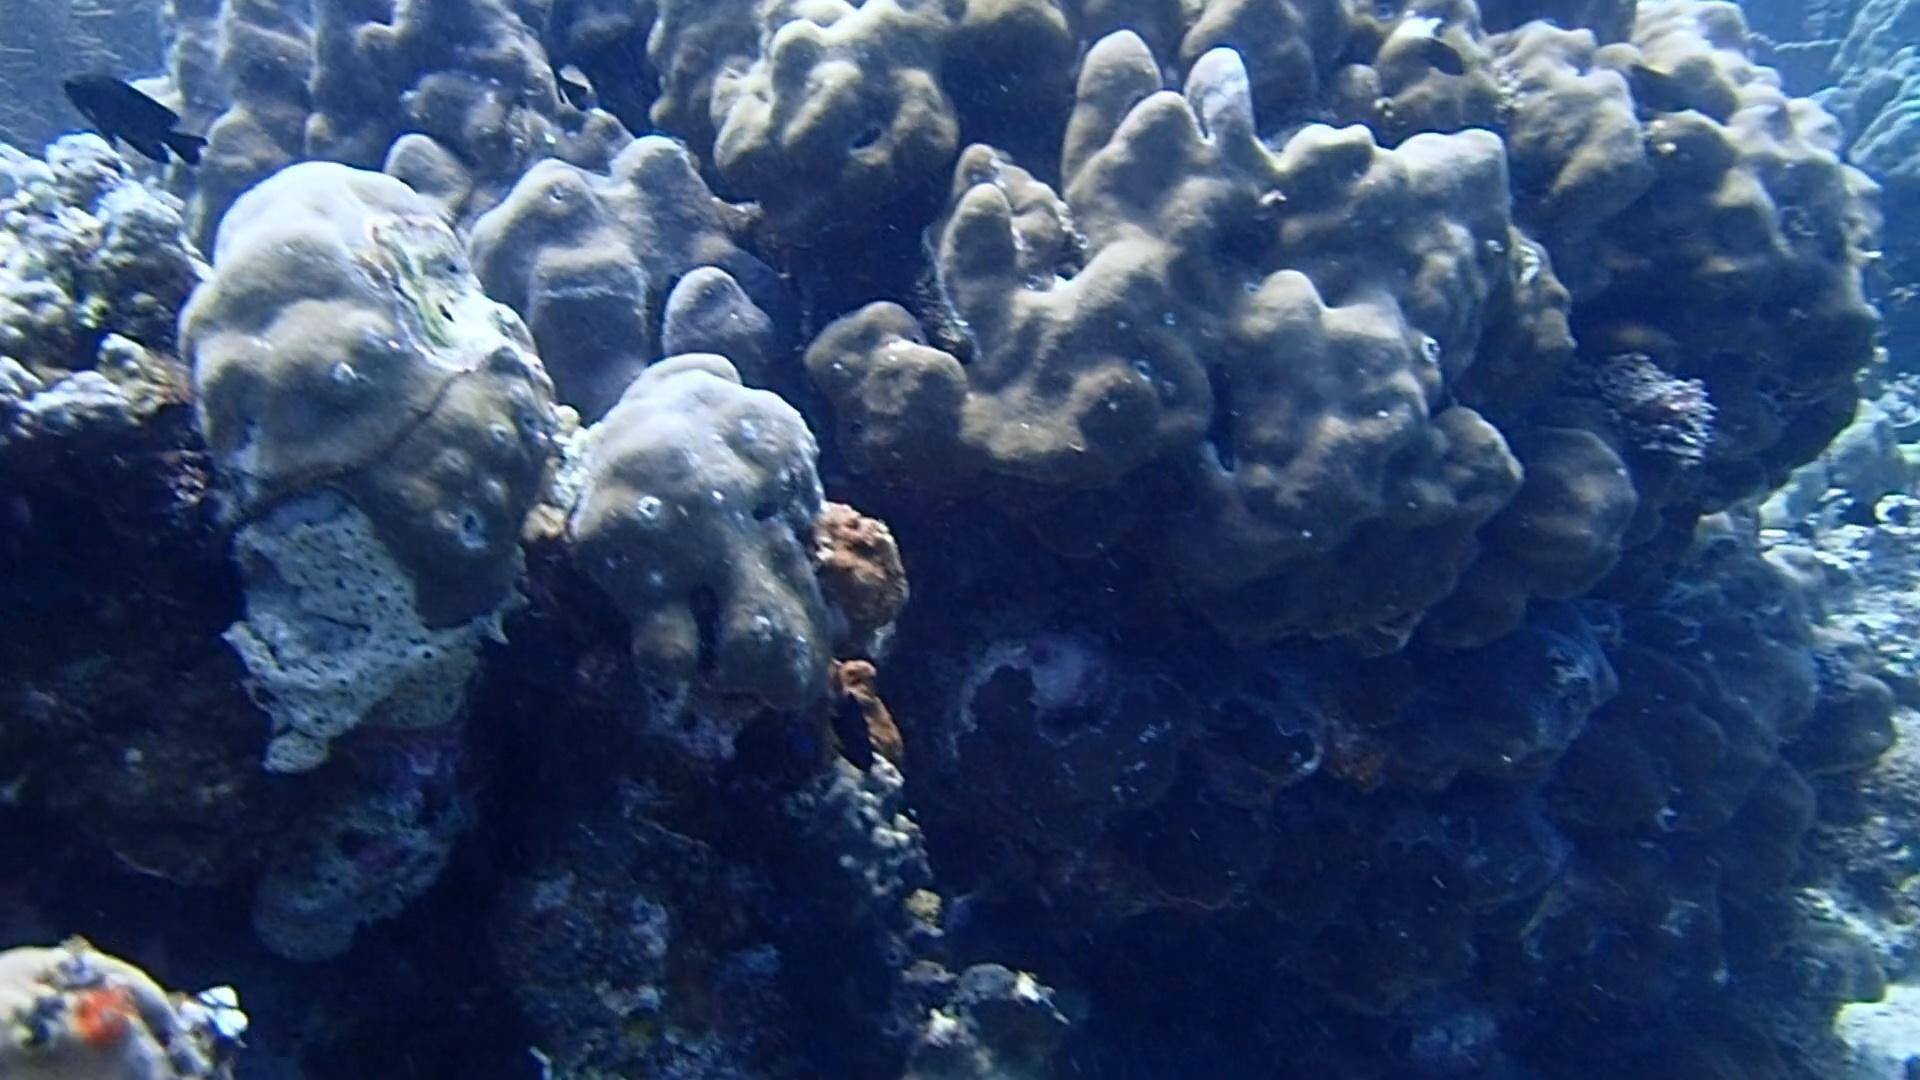Dark Fish: (55, 58, 222, 189), (812, 680, 885, 786), (1607, 62, 1708, 117), (1424, 32, 1472, 88)
